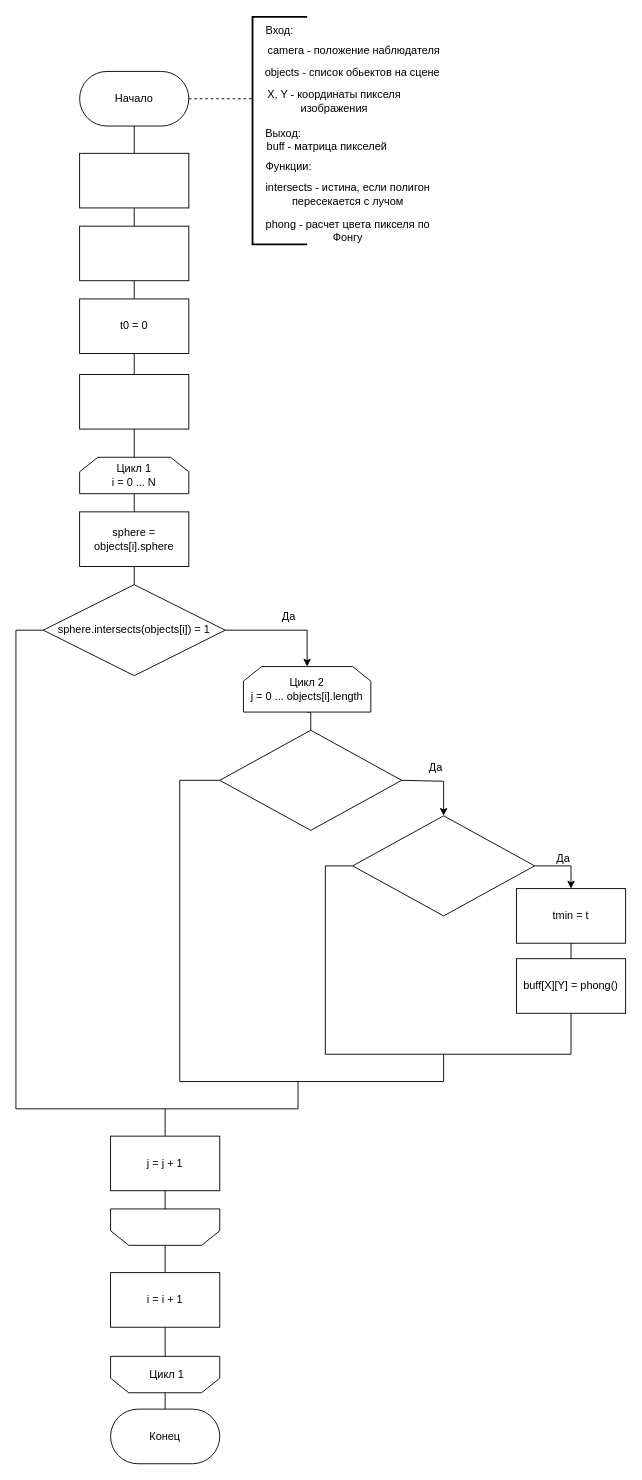
Some shapes in this 642 by 1480 pixel diagram are drawn without their labels. Here are the shapes that lost their labels. From the top down, the box of each, then its label:
(79, 152, 189, 208): rayOrigin = camera.view
(79, 225, 189, 281): rayDirection = camera.screen -camera.view
(79, 374, 189, 429): tmin = inf
(219, 729, 402, 830): intersects(objects[i][j]), rayOrigin, rayDirection, t) = 1
(352, 815, 535, 916): t < tmin
(110, 1208, 220, 1245): Цикл 2
